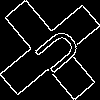U: (25, 25, 84, 82)
